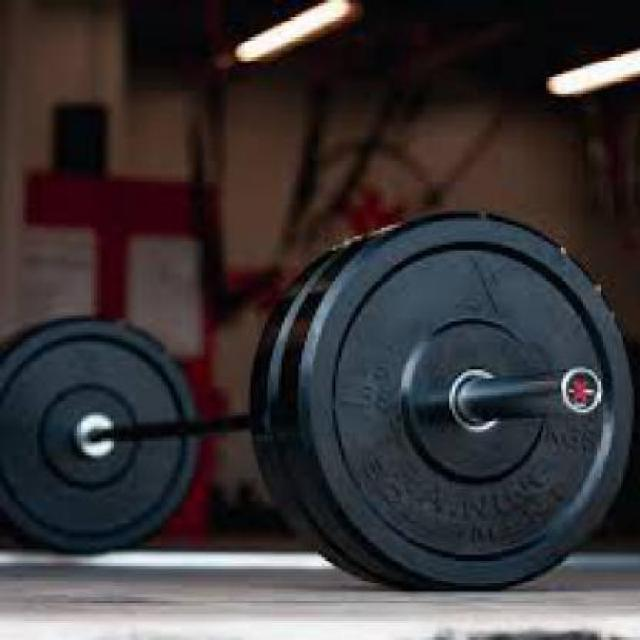barbell: (289, 209, 640, 602)
